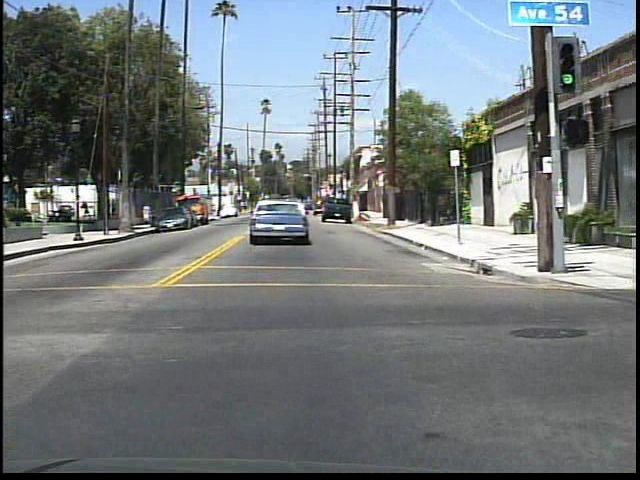person: (143, 199, 156, 227), (107, 195, 120, 220), (81, 198, 91, 220)
